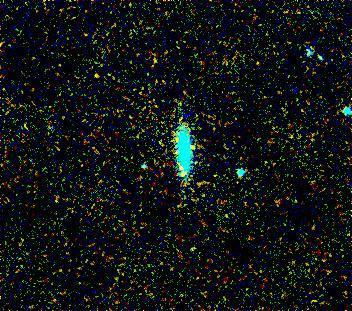star: (175, 128, 205, 158)
